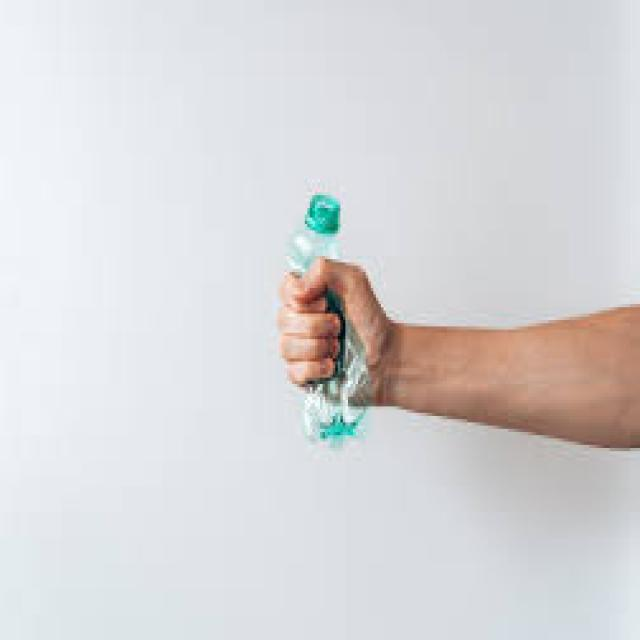defected: (269, 184, 389, 457)
